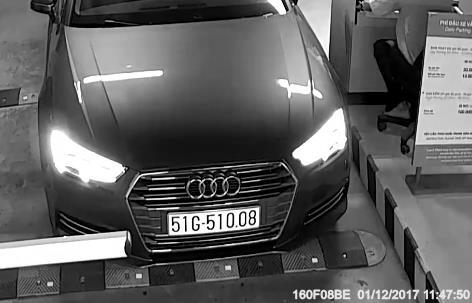License-plate: (163, 208, 270, 238)
